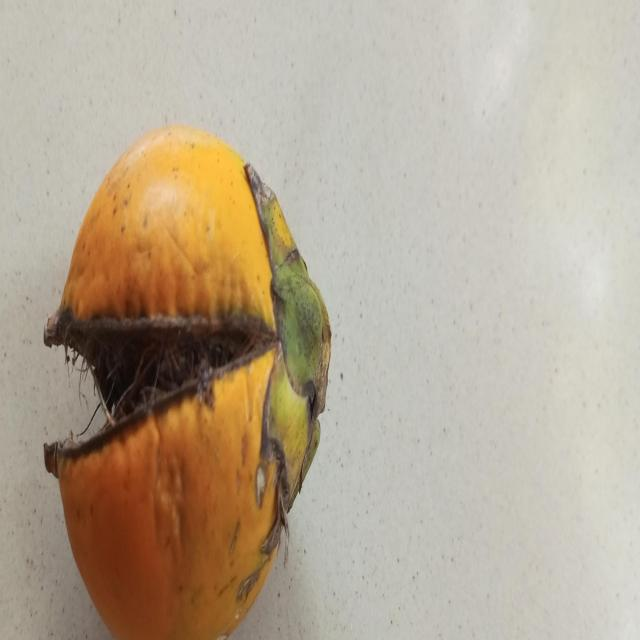damaged: (45, 126, 333, 640)
